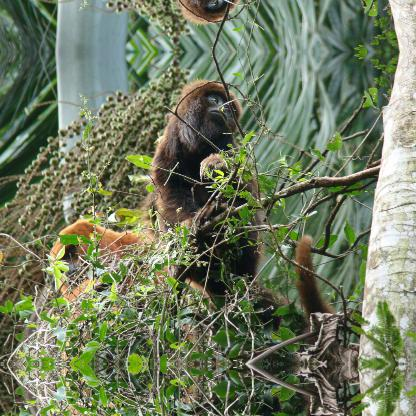Monkey: (152, 80, 336, 340), (53, 220, 213, 362), (53, 366, 214, 415)
